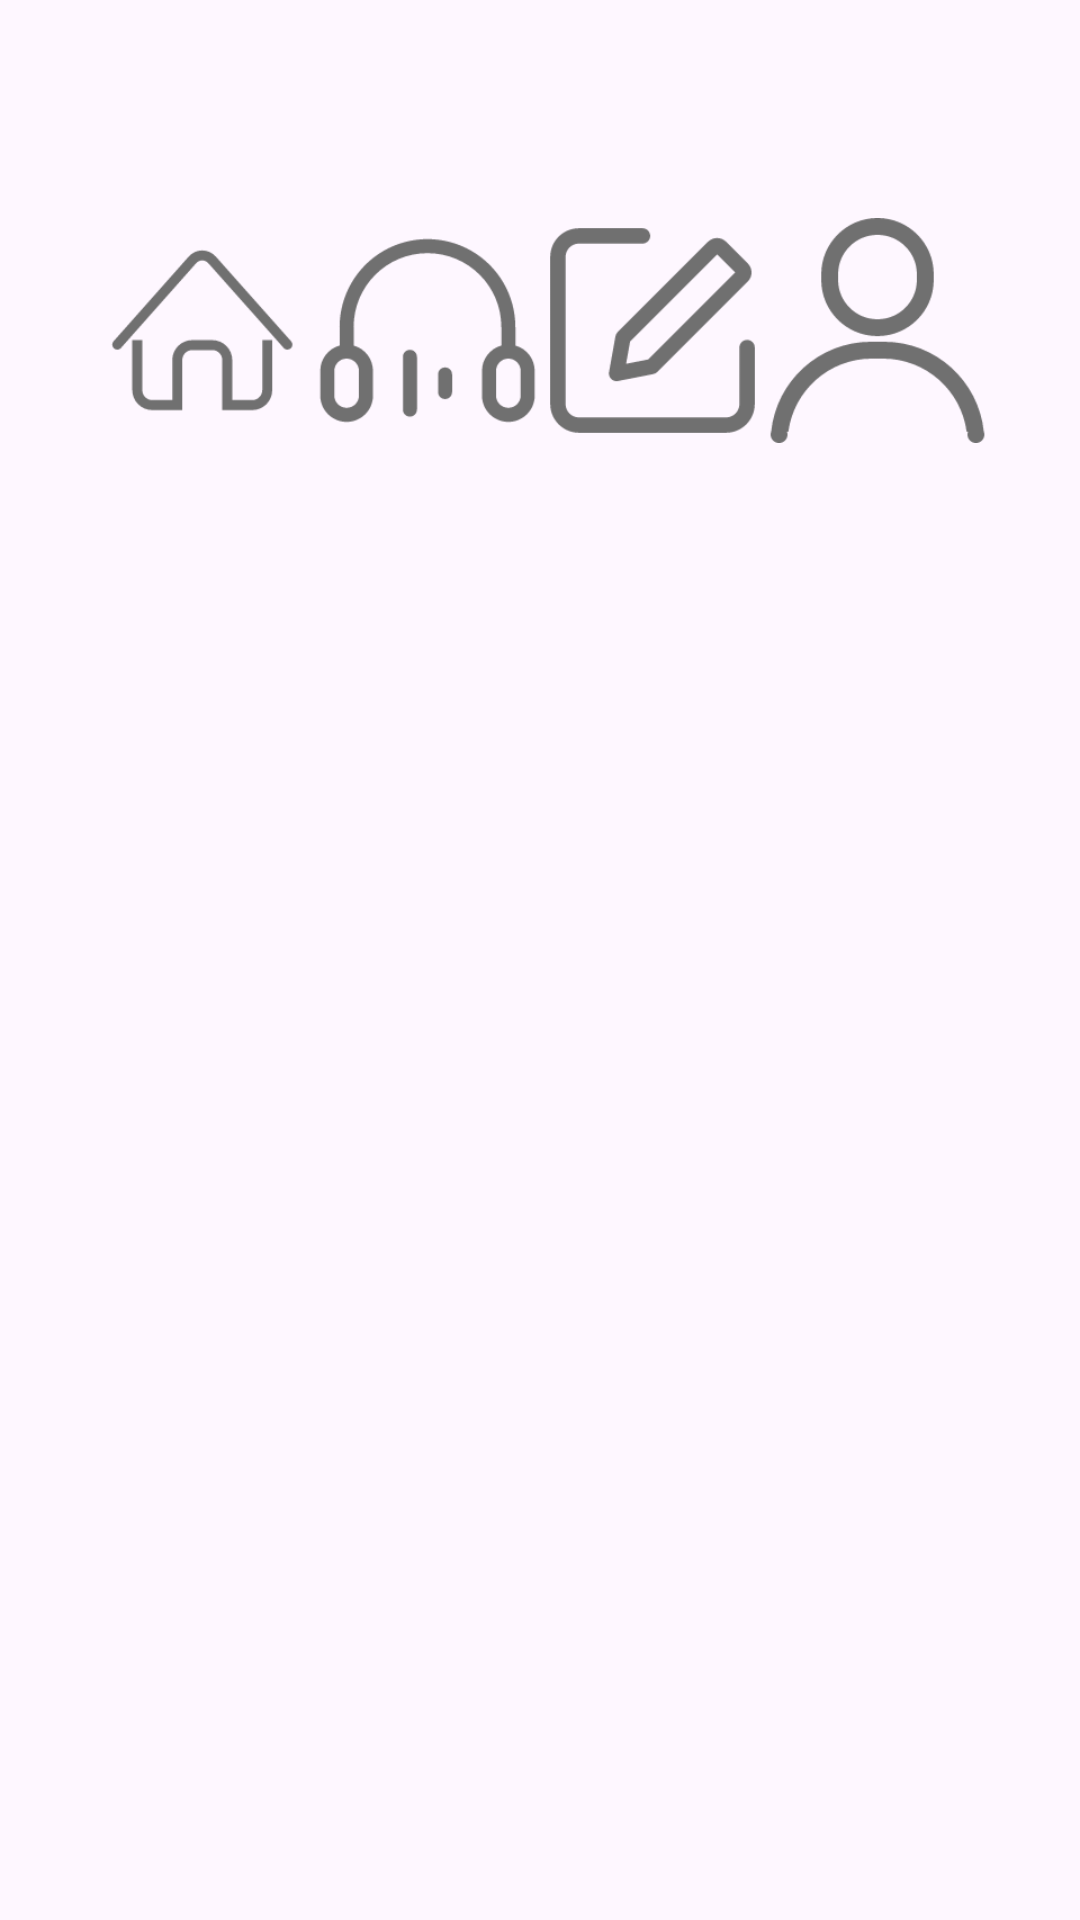

Named icons in this screenshot (1080x1920) and their centers, (x=x, y=y):
bianji: (x=652, y=330)
erji: (x=427, y=330)
personal: (x=877, y=330)
shouye: (x=202, y=330)
